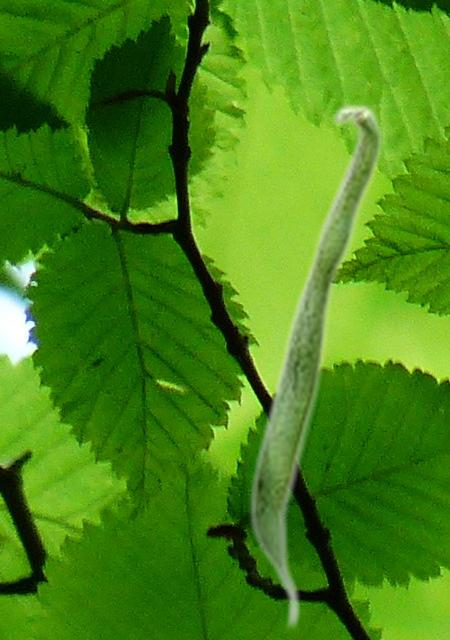french_bean: (248, 102, 383, 631)
